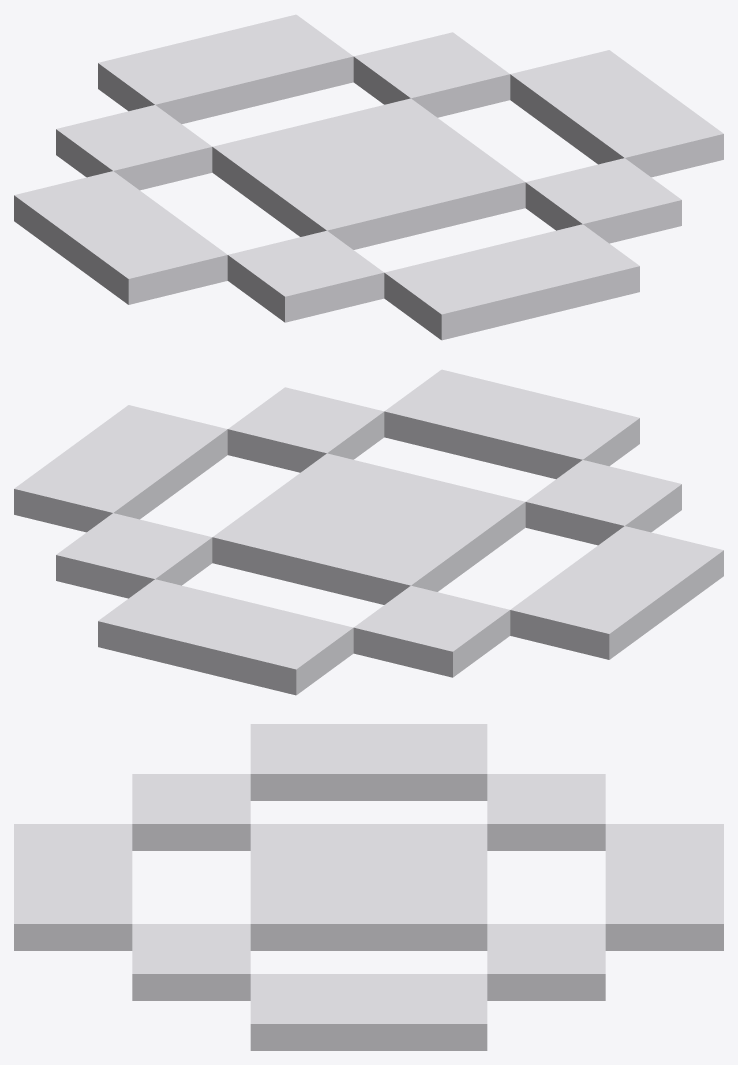
File: selection_facet_o.obj
The picture shows the model from 3 angles, top to bottom: view 1: azimuth 30°, elevation 25°; view 2: azimuth 150°, elevation 25°; view 3: azimuth 270°, elevation 25°; orthographic projection. The views are drawn at different scales.
Bounding box in the file's own units: 2.4 × 0.1 × 2.4.
Materials: 1 (1 with a texture image).
